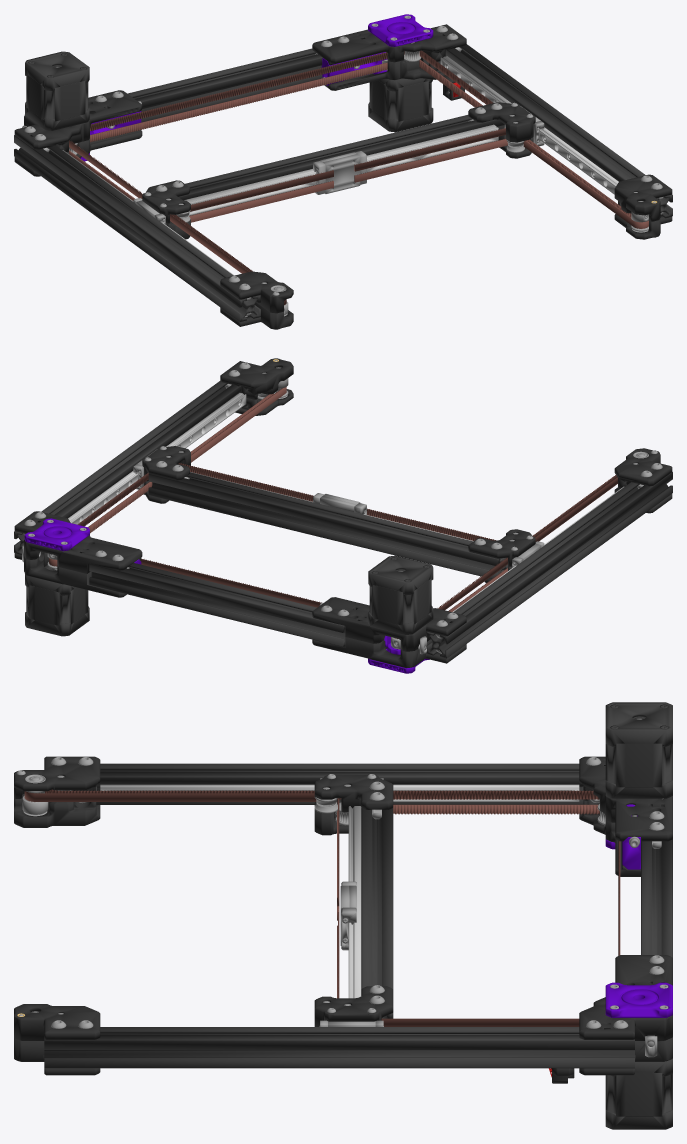
Rendered from monolith-gantry.glb.
The picture shows the model from 3 angles, top to bottom: view 1: azimuth 30°, elevation 25°; view 2: azimuth 150°, elevation 25°; view 3: azimuth 270°, elevation 25°; orthographic projection. The views are drawn at different scales.
Parts seen in each view (by area): view 1: 050_SOLID, 051_6mm 2WD belt, 052_6mm 2WD belt, 030_SOLID, 010_SOLID, 075_SOLID, 226_stepper, 234_stepper, 065_SOLID, 168_VT 6mm rear motor mount body a, 193_VT 6mm rear motor mount body b, 019_SOLID (+10 smaller); view 2: 075_SOLID, 050_SOLID, 010_SOLID, 052_6mm 2WD belt, 030_SOLID, 226_stepper, 234_stepper, 193_VT 6mm rear motor mount body b, 168_VT 6mm rear motor mount body a, 019_SOLID, 051_6mm 2WD belt, 138_VT 6mm front motorless mount body b (+7 smaller); view 3: 030_SOLID, 050_SOLID, 052_6mm 2WD belt, 226_stepper, 075_SOLID, 234_stepper, 168_VT 6mm rear motor mount body a, 010_SOLID, 193_VT 6mm rear motor mount body b, 039_SOLID, 138_VT 6mm front motorless mount body b, 051_6mm 2WD belt (+11 smaller).
Part boxes in pixels (left/top/right/bottom): 050_SOLID: left=14, top=135, right=260, bottom=321; 051_6mm 2WD belt: left=69, top=59, right=648, bottom=228; 052_6mm 2WD belt: left=69, top=50, right=505, bottom=305; 030_SOLID: left=445, top=44, right=672, bottom=218; 010_SOLID: left=127, top=48, right=322, bottom=122; 075_SOLID: left=179, top=115, right=504, bottom=200; 226_stepper: left=25, top=51, right=89, bottom=130; 234_stepper: left=368, top=74, right=433, bottom=132; 065_SOLID: left=184, top=124, right=498, bottom=215; 168_VT 6mm rear motor mount body a: left=312, top=24, right=466, bottom=65; 193_VT 6mm rear motor mount body b: left=14, top=90, right=142, bottom=152; 019_SOLID: left=440, top=56, right=618, bottom=194; 075_SOLID: left=148, top=472, right=507, bottom=578; 050_SOLID: left=426, top=472, right=672, bottom=658; 010_SOLID: left=89, top=563, right=345, bottom=646; 052_6mm 2WD belt: left=77, top=463, right=617, bottom=638; 030_SOLID: left=14, top=380, right=241, bottom=554; 226_stepper: left=368, top=555, right=433, bottom=634; 234_stepper: left=25, top=565, right=89, bottom=636; 193_VT 6mm rear motor mount body b: left=312, top=597, right=466, bottom=651; 168_VT 6mm rear motor mount body a: left=14, top=511, right=142, bottom=573; 019_SOLID: left=68, top=393, right=246, bottom=524; 051_6mm 2WD belt: left=49, top=387, right=507, bottom=611; 138_VT 6mm front motorless mount body b: left=220, top=358, right=293, bottom=399; 030_SOLID: left=44, top=1027, right=634, bottom=1068; 050_SOLID: left=96, top=763, right=583, bottom=804; 052_6mm 2WD belt: left=24, top=789, right=619, bottom=1026; 226_stepper: left=605, top=702, right=672, bottom=798; 075_SOLID: left=361, top=808, right=393, bottom=1018; 234_stepper: left=605, top=1058, right=672, bottom=1129; 168_VT 6mm rear motor mount body a: left=579, top=955, right=672, bottom=1040; 010_SOLID: left=641, top=839, right=672, bottom=957; 193_VT 6mm rear motor mount body b: left=579, top=756, right=672, bottom=841; 039_SOLID: left=100, top=784, right=579, bottom=801; 138_VT 6mm front motorless mount body b: left=14, top=1004, right=100, bottom=1040; 051_6mm 2WD belt: left=337, top=804, right=620, bottom=998.
Bounding box in the file's own units: 0.41 × 0.124 × 0.4127.
